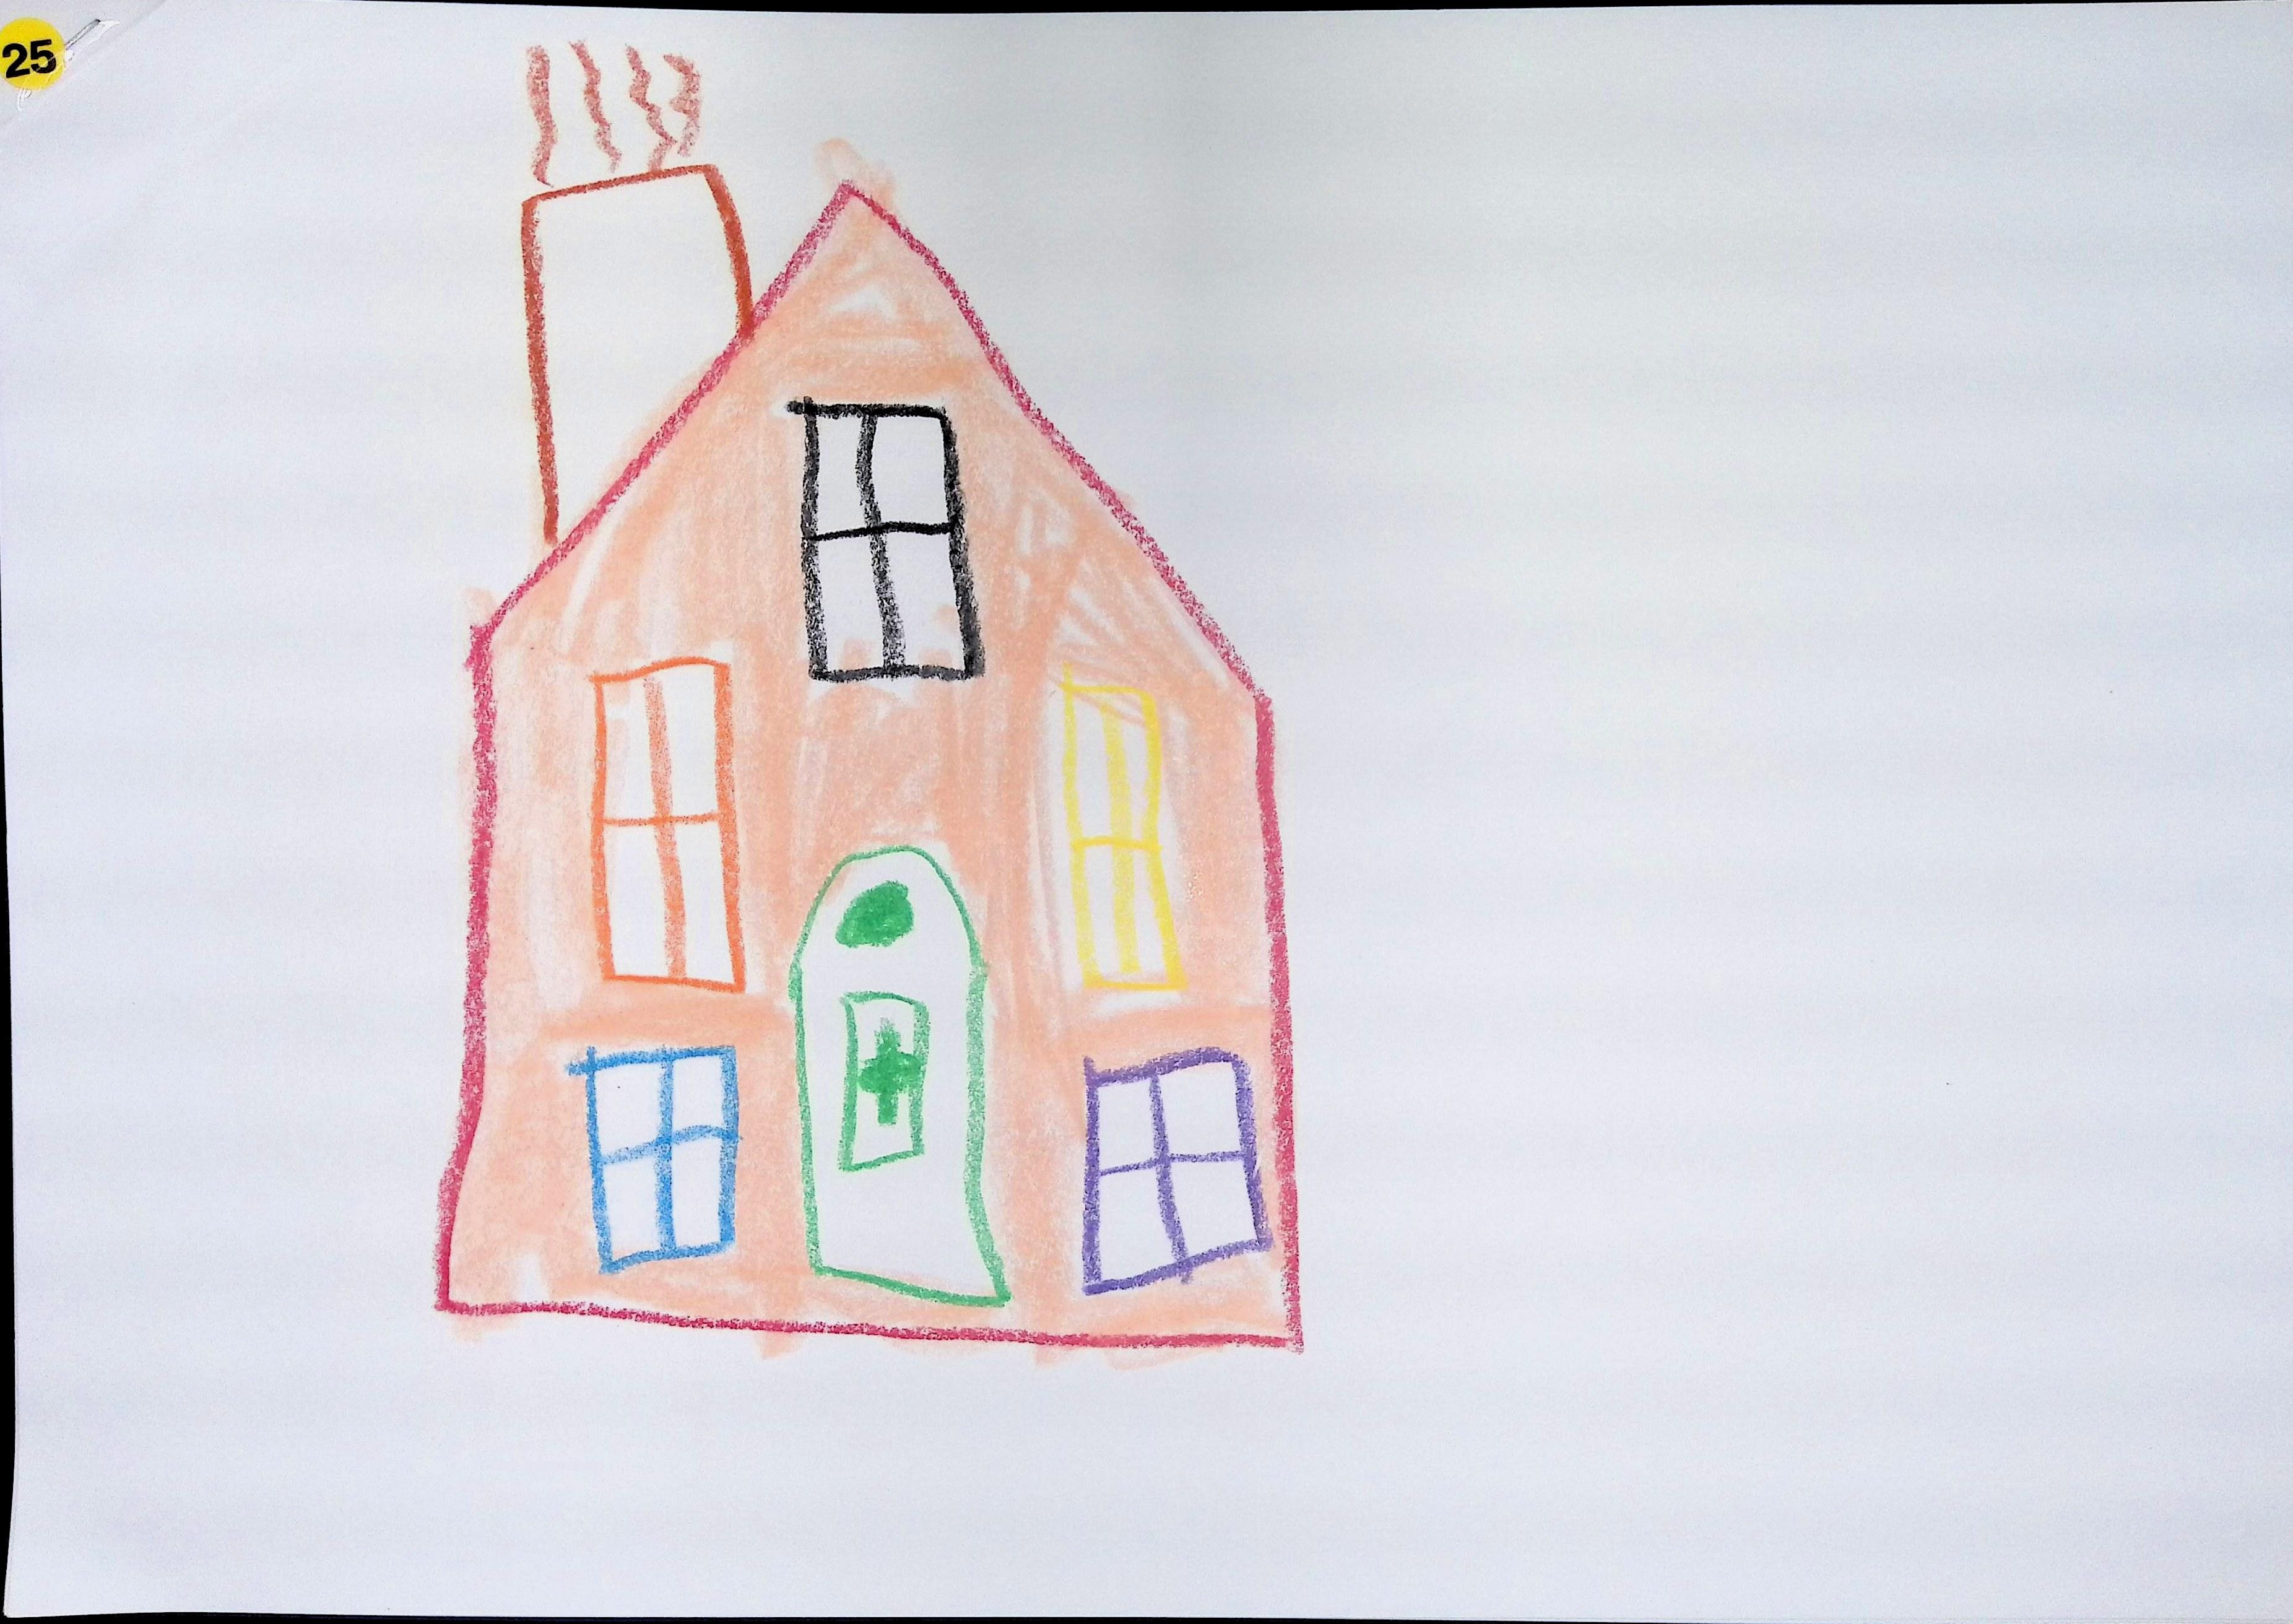chimney: (520, 153, 759, 571)
door: (791, 847, 1009, 1304)
house: (436, 160, 1300, 1348)
roof: (462, 162, 1276, 728)
wall: (438, 183, 1300, 1346)
window: (787, 397, 982, 680), (592, 656, 743, 990), (1084, 1049, 1272, 1294), (1063, 664, 1186, 988), (566, 1048, 738, 1272)
